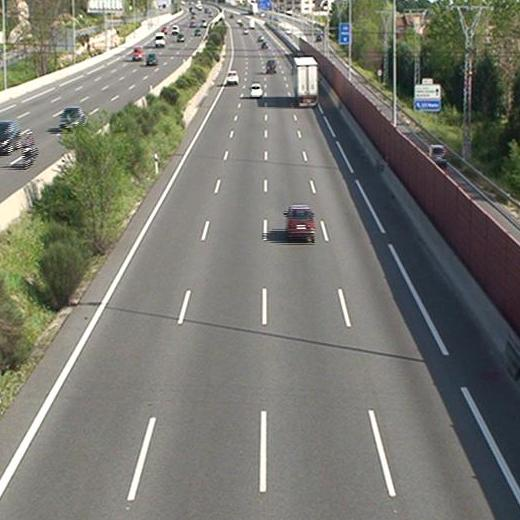car: (287, 206, 314, 238), (227, 71, 239, 83), (250, 85, 261, 97), (266, 60, 276, 73)
truck: (296, 58, 318, 106)
